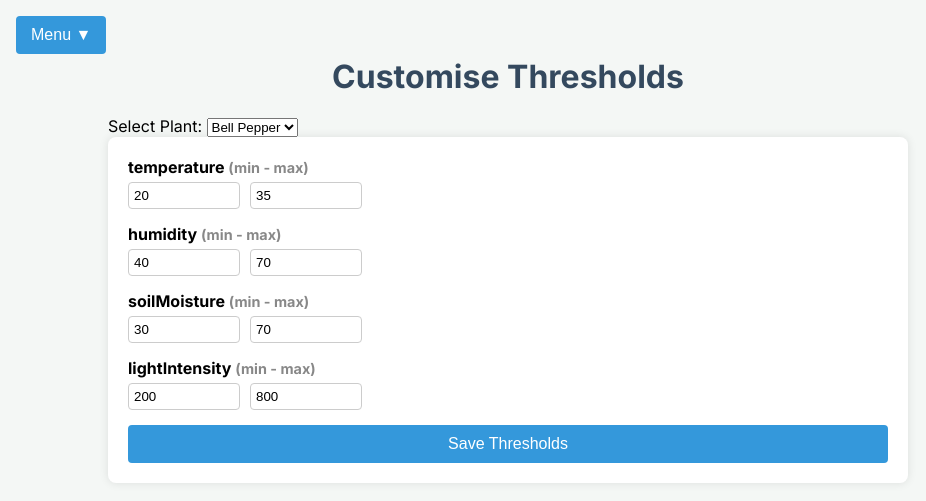
it: CustomizeThresholds › switches plant and loads corresponding thresholds
Step 1. Select "Chestnut" in the dropdown labelled "Select Plant:" → (252, 128), box [206, 118, 298, 137]
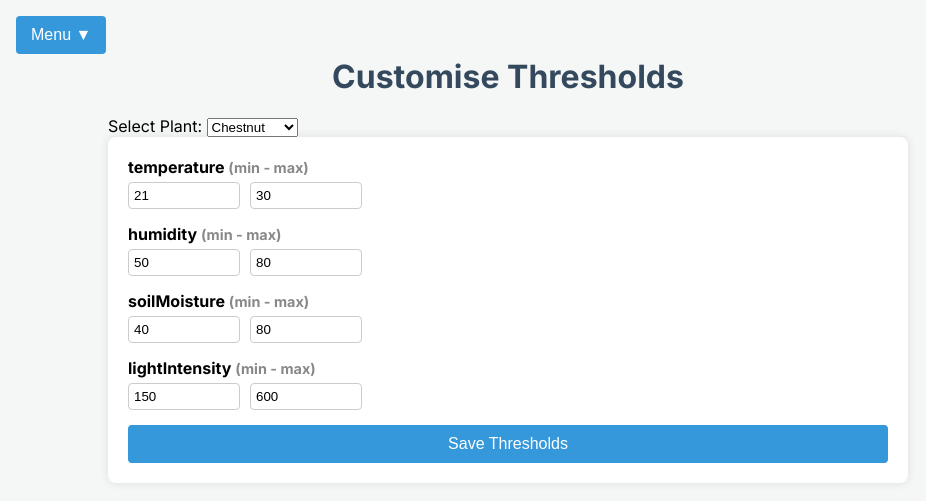
Result: the 1st number field showing "21" is shown at [128, 182, 240, 209]
Result: the 2nd number field showing "30" is shown at [250, 182, 362, 209]
